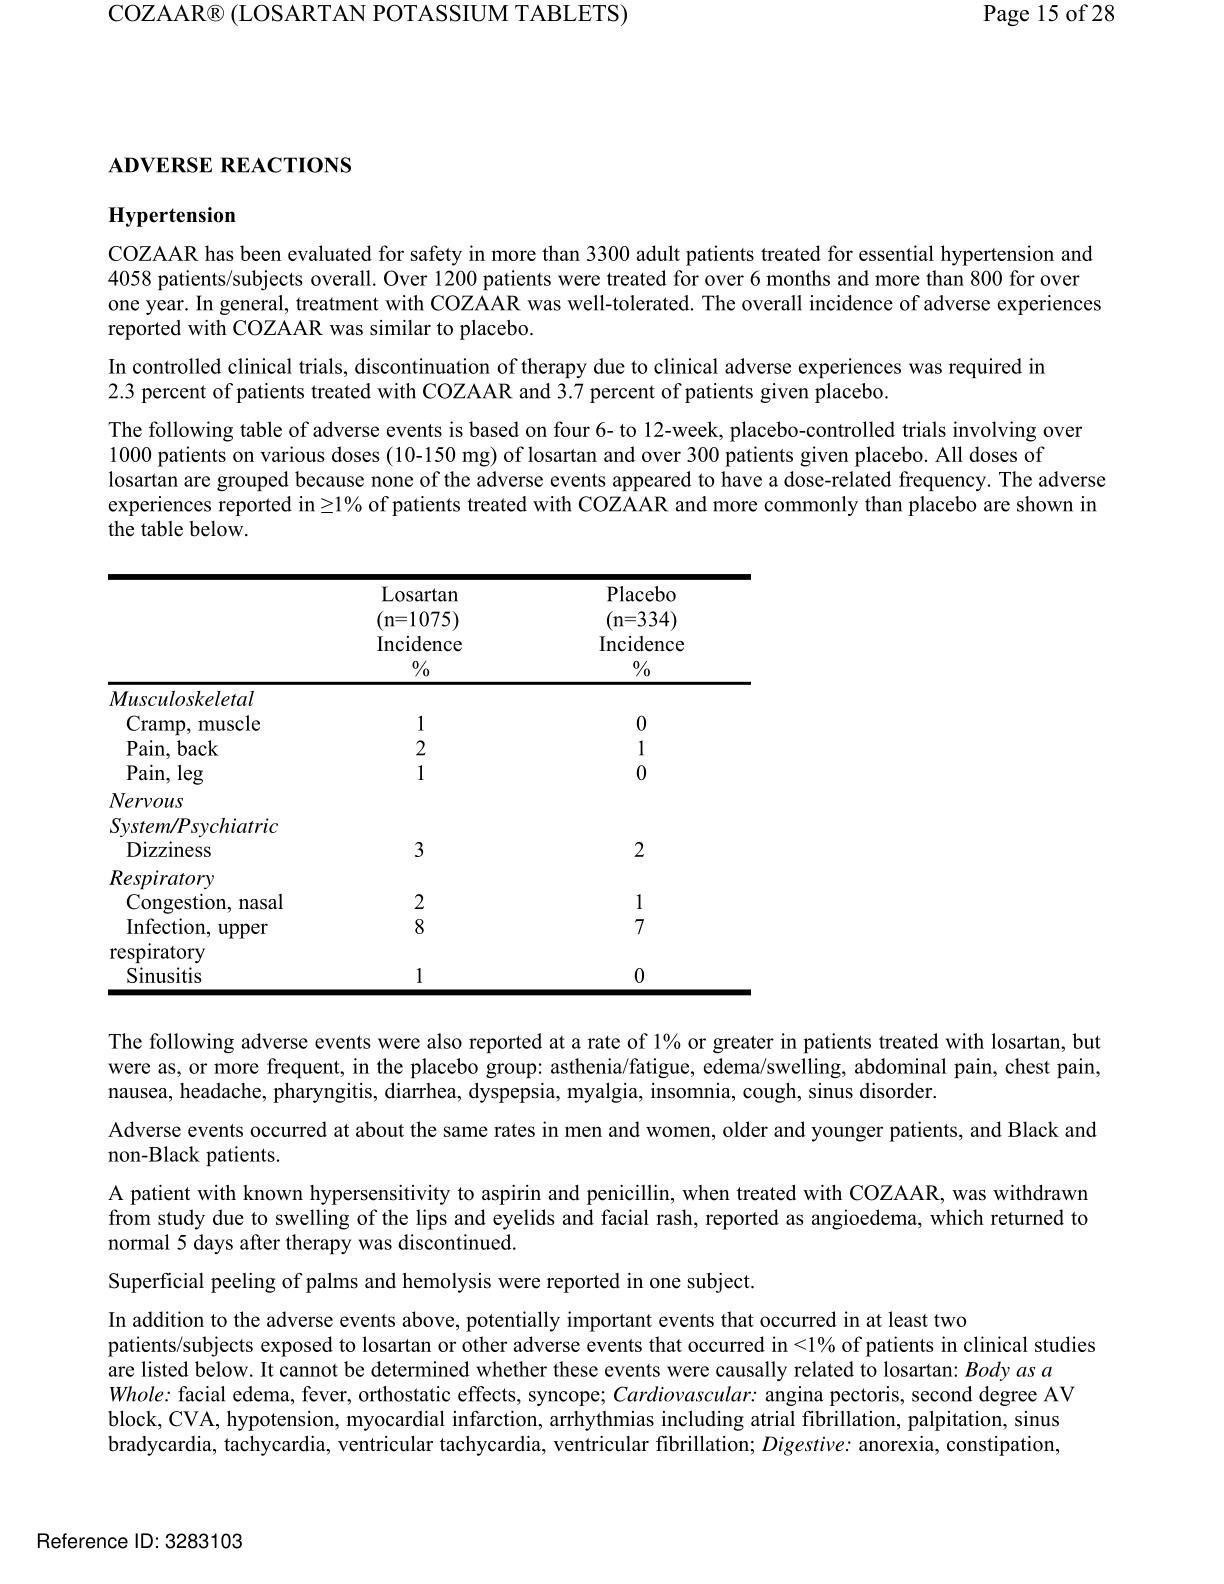partial_lined_merged_cells: (105, 573, 753, 996)
